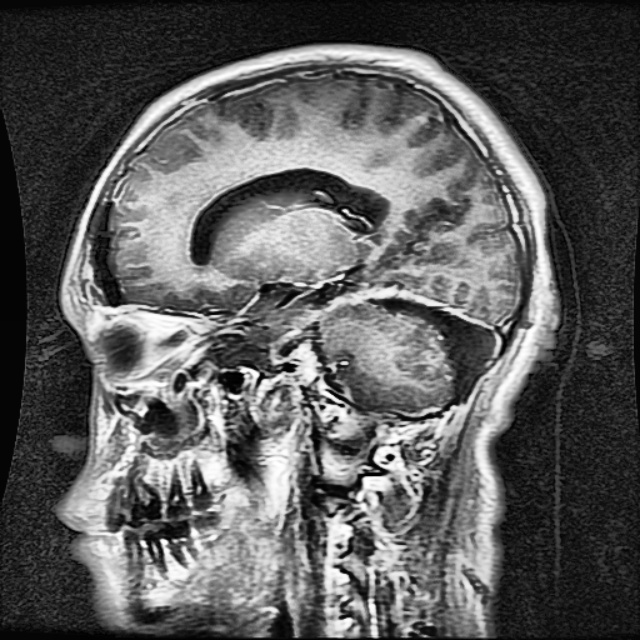Meningioma: (368, 299, 495, 403)
